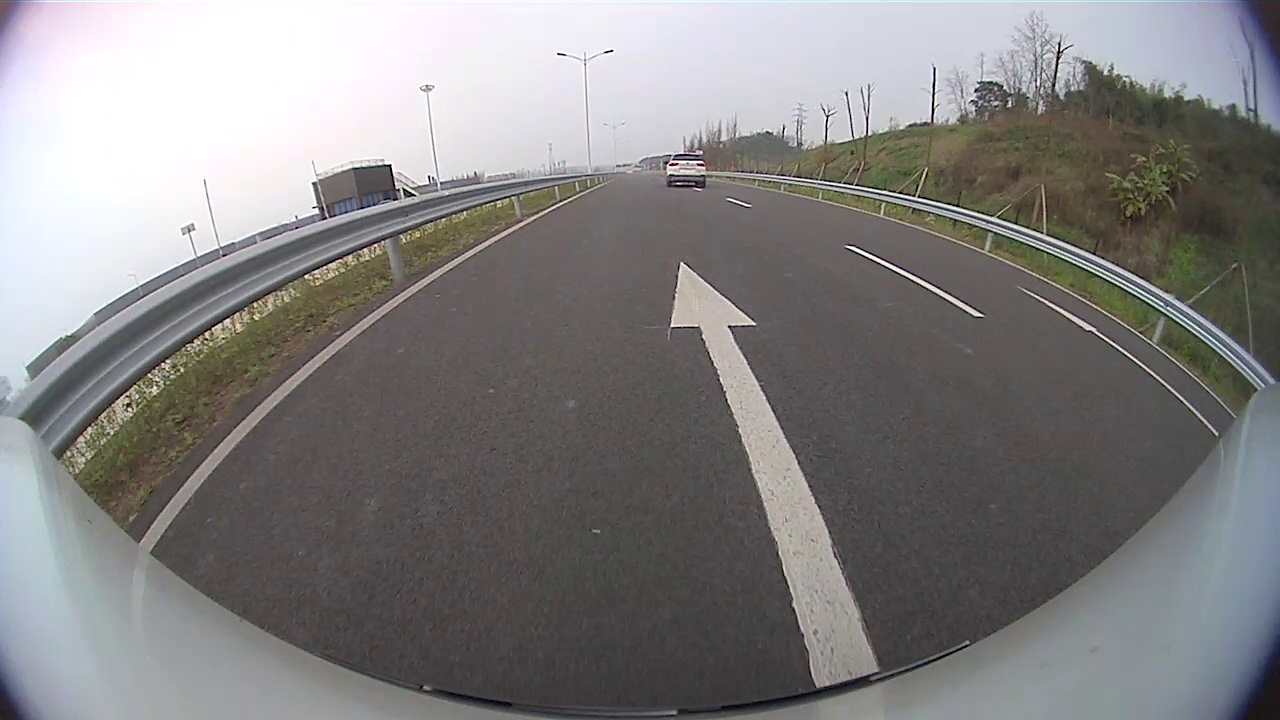car: (663, 153, 706, 187)
